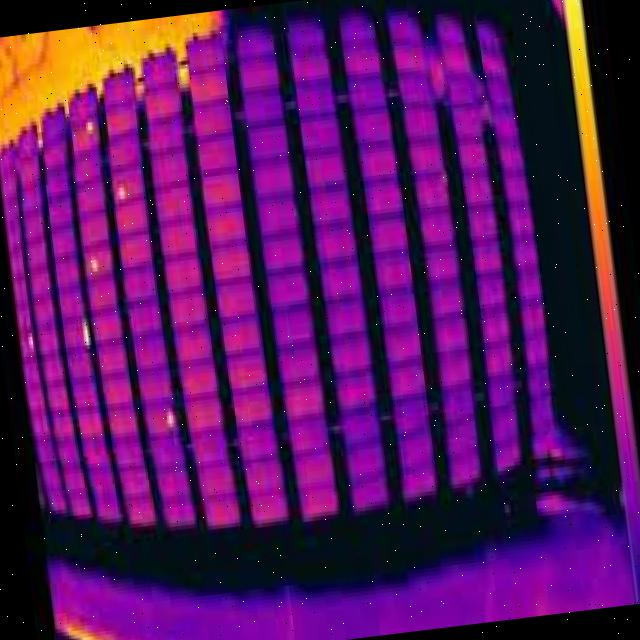Hotspot: (82, 318, 92, 349), (164, 411, 174, 427), (84, 118, 94, 134), (28, 332, 36, 348), (89, 259, 99, 271), (118, 186, 125, 198)
